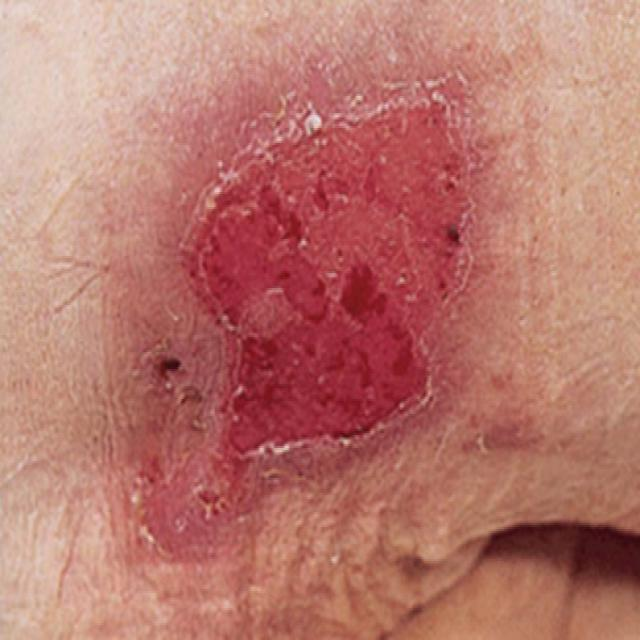stage-2: (181, 100, 473, 502)
